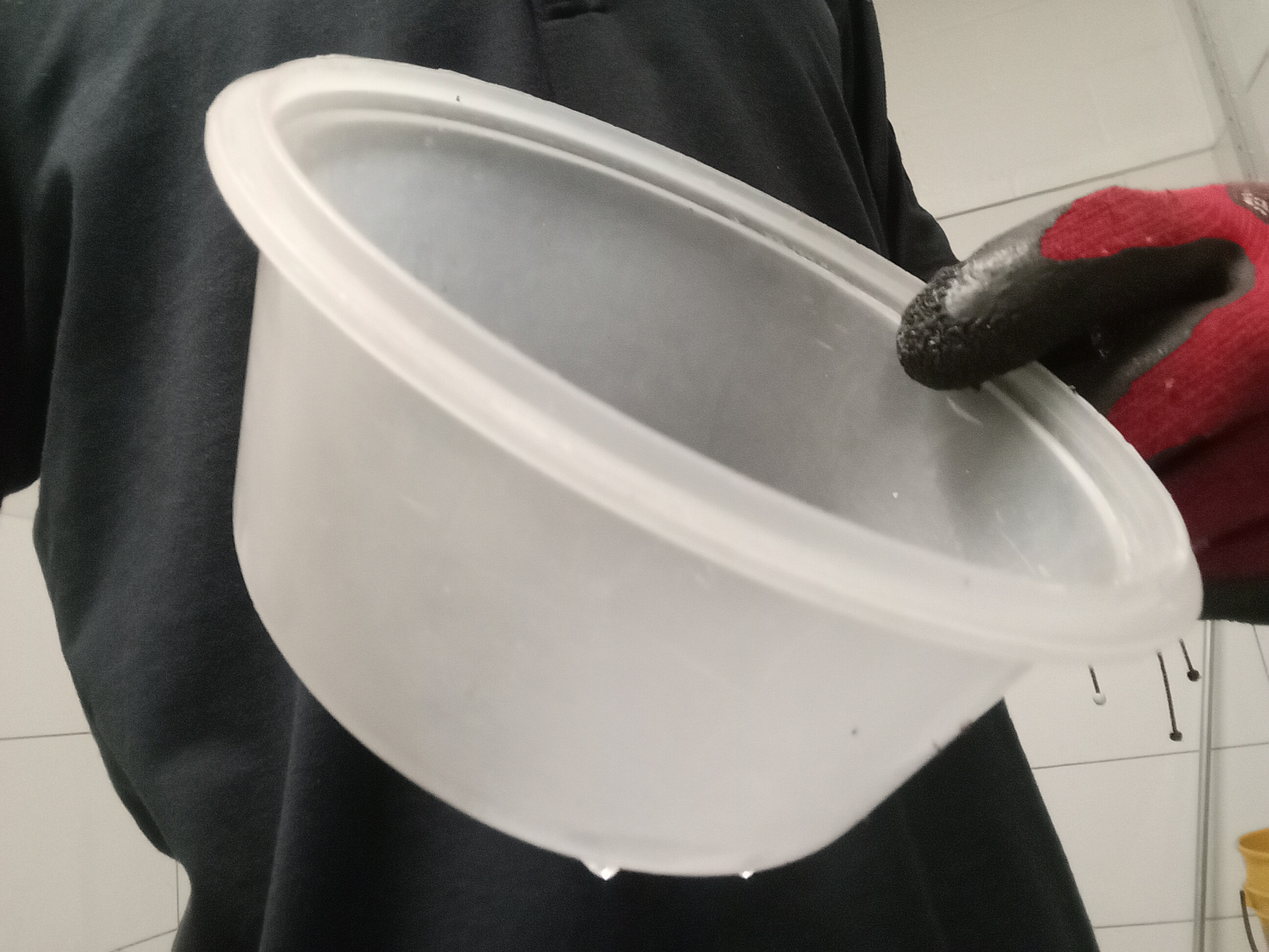Plastico: (200, 53, 1201, 876)
